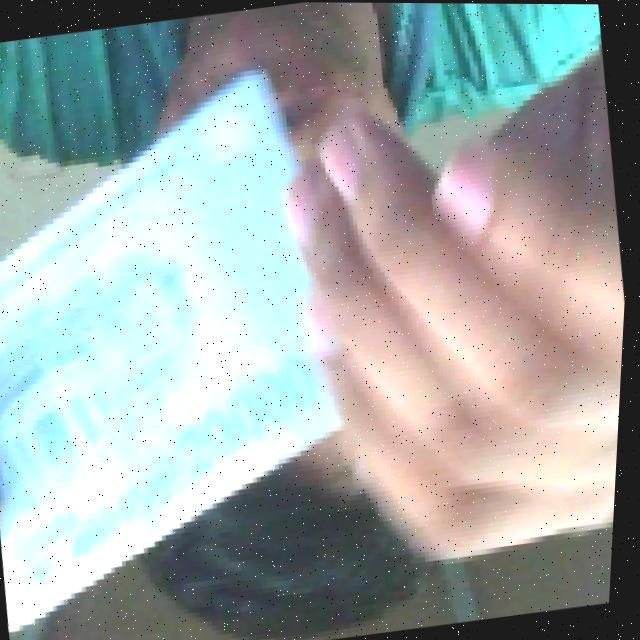20 000 VND: (0, 52, 402, 640)
